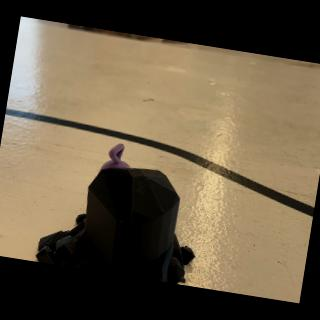teletubby: (99, 144, 130, 172)
